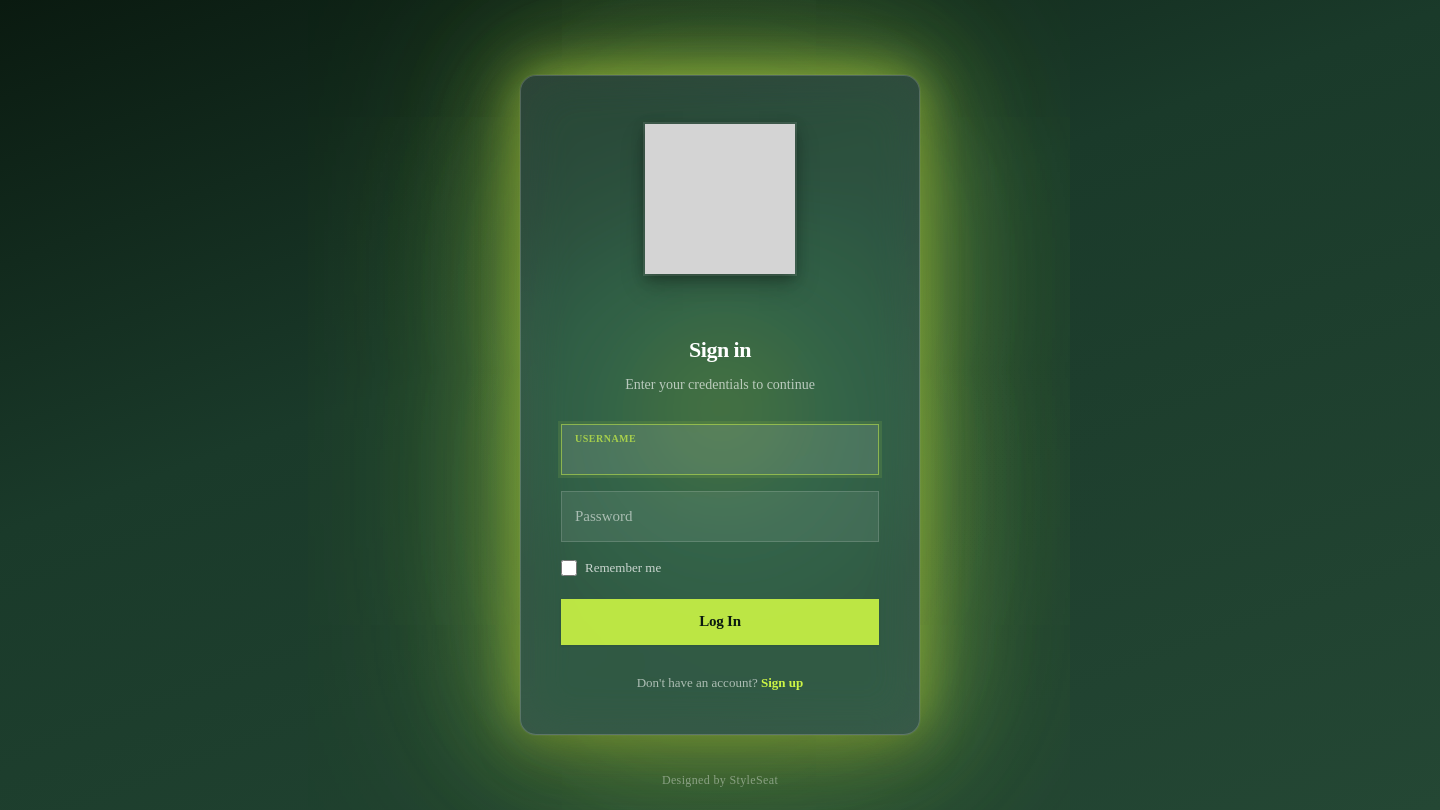
Test case: LoginPage › shows error message on login failure
In the field labelled "Username": (720, 450) [561,424,879,475], type "wrong"
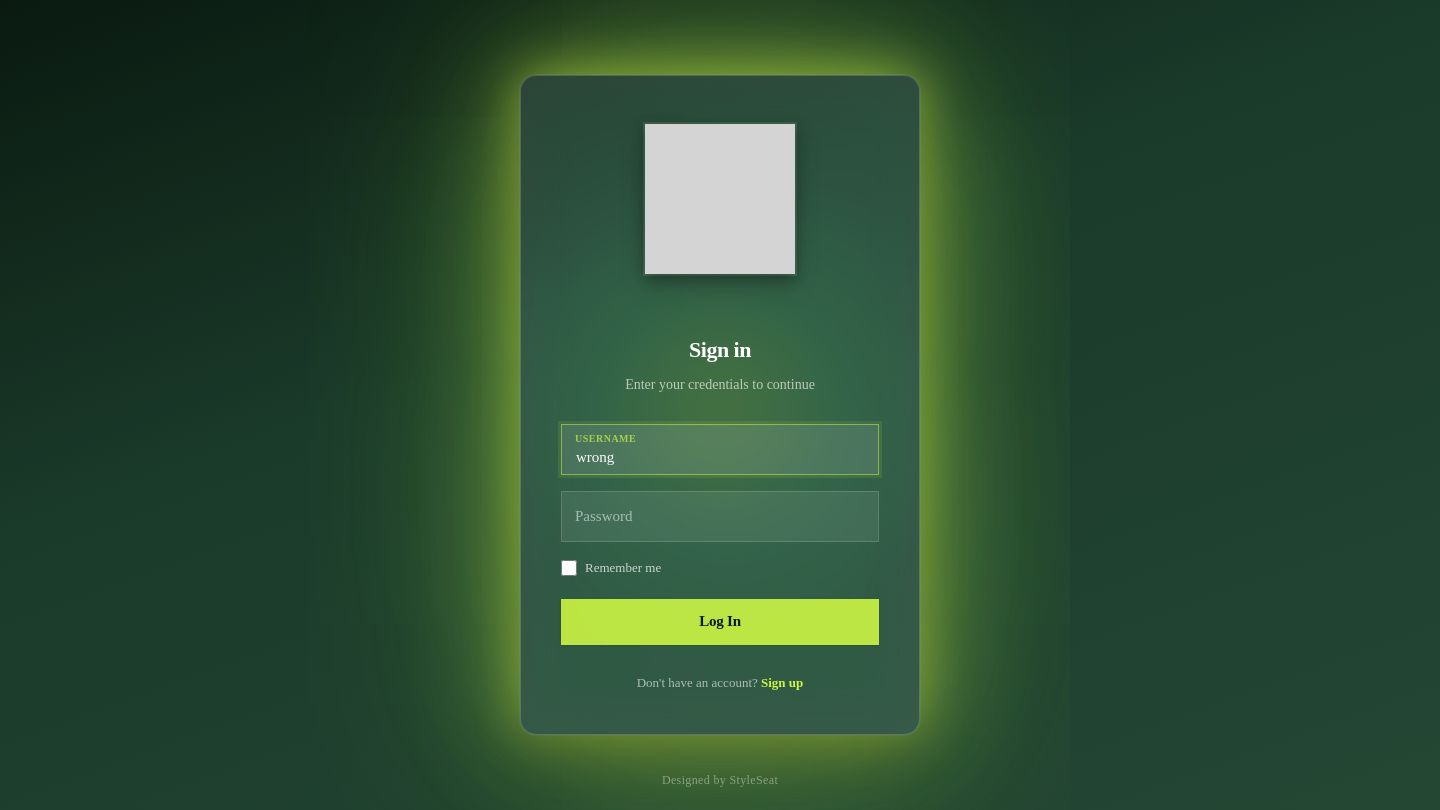
In the password field labelled "Password": (720, 516) [561,491,879,542], type "wrong"
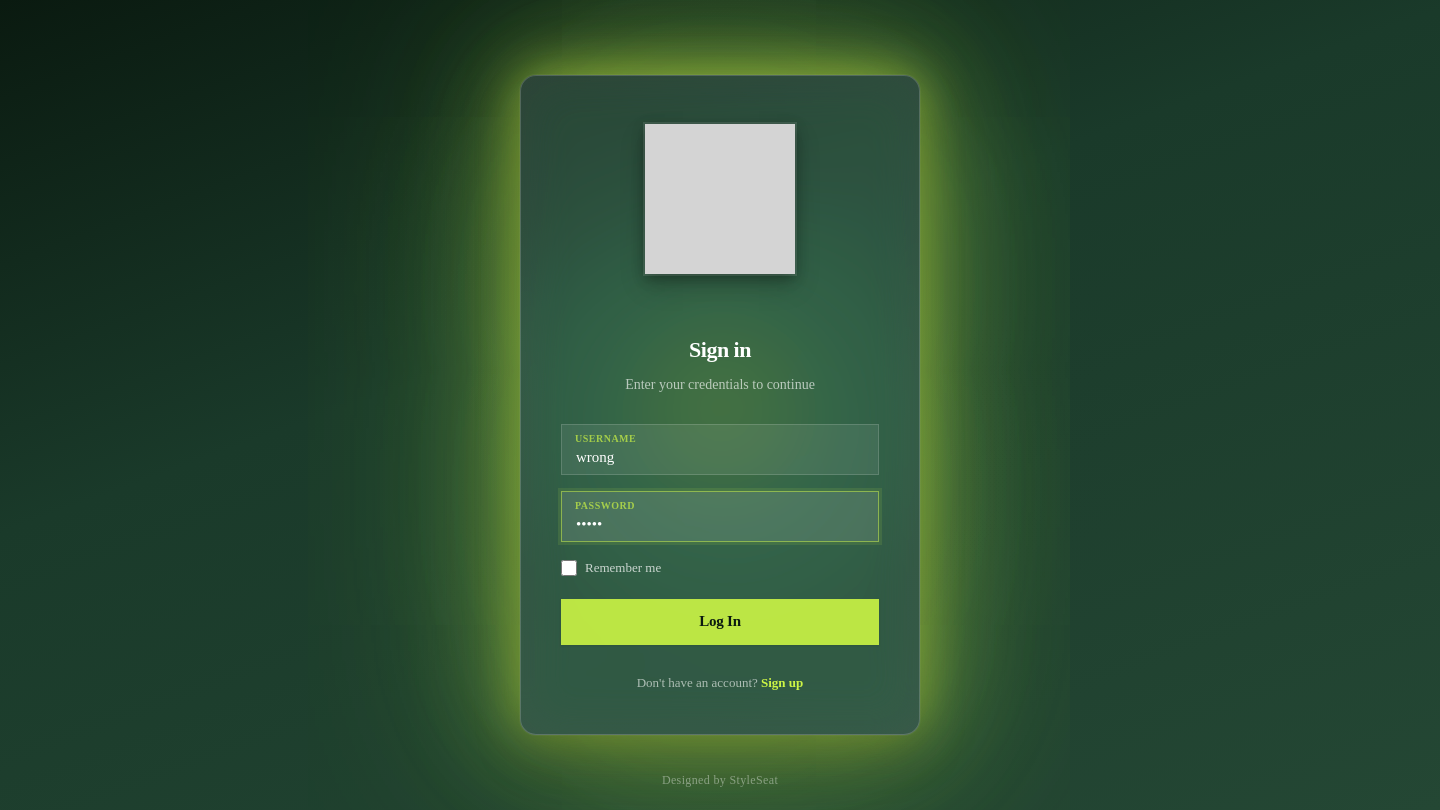
Click the button "Log In": (720, 622) [561,599,879,645]
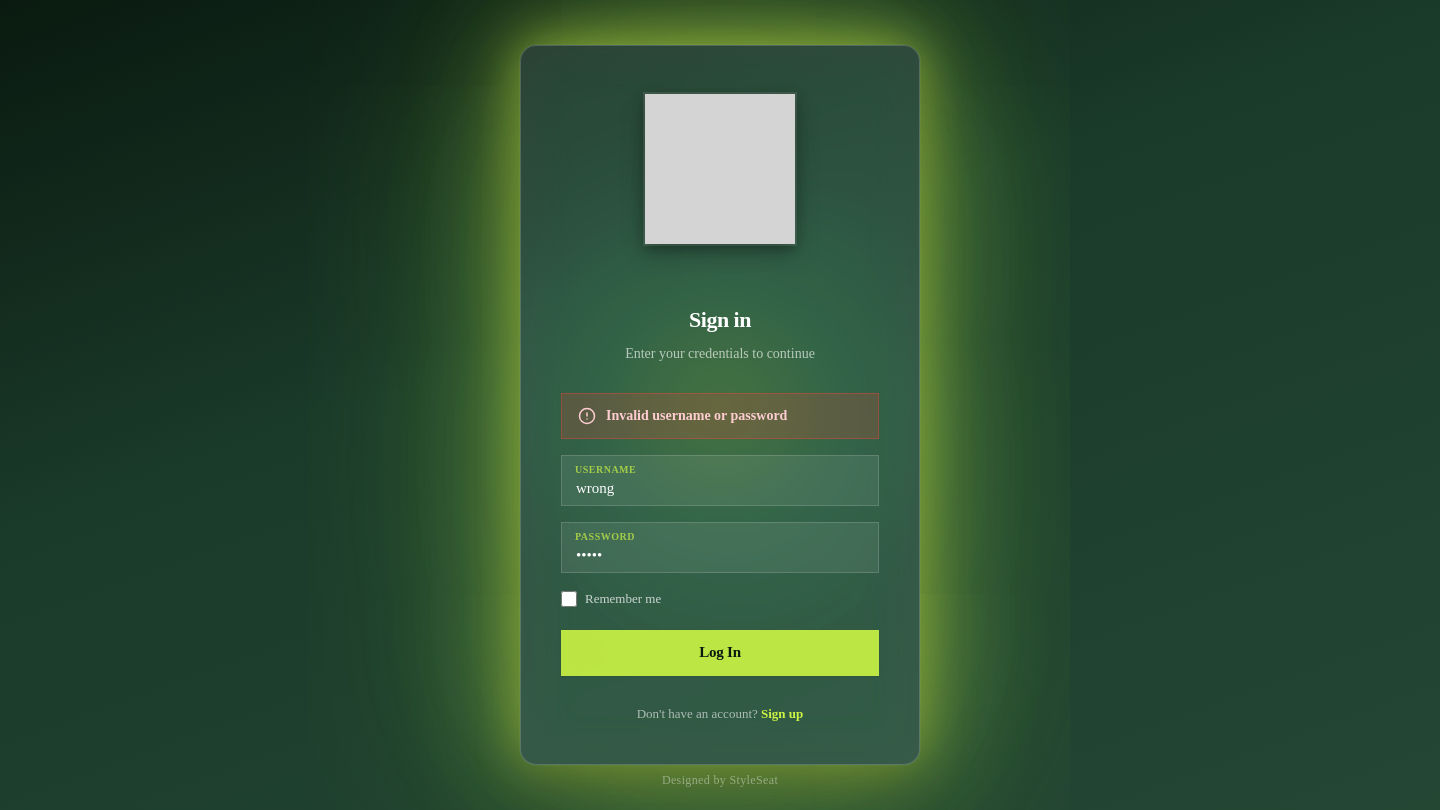
Check: the text "Invalid username or password" is shown, box [561,393,879,439]
